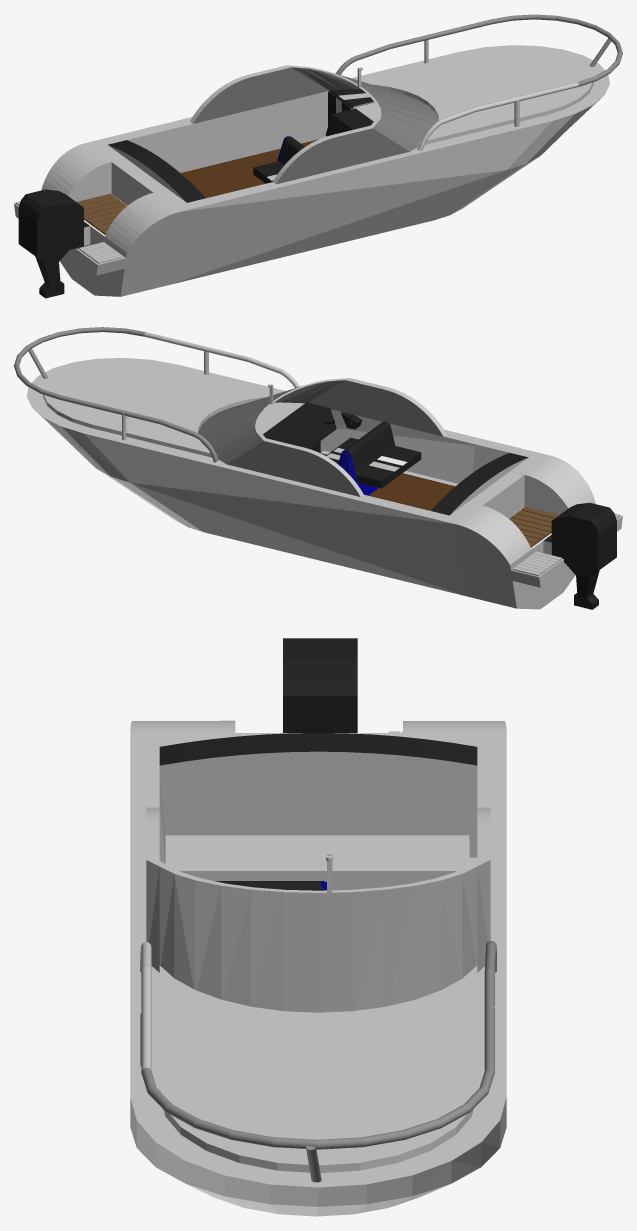
3 renders of one model, top to bottom at view 1: azimuth 30°, elevation 25°; view 2: azimuth 150°, elevation 25°; view 3: azimuth 270°, elevation 25°, orthographic. The views are drawn at different scales.
Visible parts, largest first — view 1: node_398c1869_4de9_42c3_acb5_d54d2fb5d9c2_mesh0, node_ca6d05bd_58bb_4cbd_8bf5_4d009f5f1042_mesh0, node_8cd9ed6f_15ce_4825_aaf6_00906760d0ca_mesh0, node_37c2b4e1_b0ee_464c_ad89_d1457e3d8df5_mesh0, node_798bcff1_ca49_4df4_9d43_2eb9524734d8_mesh0, node_49783029_1f17_4c90_8948_015a88741553_mesh0, node_4237e28a_459e_4023_a213_5a127142ac3e_mesh0, node_5f3b4f05_a2fe_43c5_94bb_bea7e3aed9e0_mesh0, node_126b88bf_c653_46ab_97fb_210226626899_mesh0, node_3b9ed3f4_0f21_40a8_a263_88b4315844ca_mesh0, node_f3c6758b_bc6e_4c5a_97cc_07e82ce6b7cf_mesh0, node_0b12ac3a_5e64_4bae_93e4_d47757035e7e_mesh0 (+20 smaller); view 2: node_8cd9ed6f_15ce_4825_aaf6_00906760d0ca_mesh0, node_7750dd3c_a66f_4206_ba06_14c77fd657e7_mesh0, node_ec9f24e7_42b0_4ba1_8b6e_8480ede5b2c9_mesh0, node_4237e28a_459e_4023_a213_5a127142ac3e_mesh0, node_371b3bdd_e48d_4beb_baf8_1952067fc0ce_mesh0, node_798bcff1_ca49_4df4_9d43_2eb9524734d8_mesh0, node_b8e310ad_8105_4c6e_9dd0_fd498eb5f2b4_mesh0, node_947f8839_b7e8_46d5_996b_66a4e2d4d35b_mesh0, node_987b691d_bffb_45d5_a6c2_ed9c18586fcb_mesh0, node_25a619ab_30ad_40a3_b788_3765fe076688_mesh0, node_bd25b6de_b7b1_454b_b3bb_e1e1a56bbeab_mesh0, node_95535d63_3386_421c_bdb1_7b007b35e281_mesh0 (+21 smaller); view 3: node_8cd9ed6f_15ce_4825_aaf6_00906760d0ca_mesh0, node_4237e28a_459e_4023_a213_5a127142ac3e_mesh0, node_798bcff1_ca49_4df4_9d43_2eb9524734d8_mesh0, node_74095a97_23ba_4cbd_9ad6_764226ce98ee_mesh0, node_4649625c_4bf1_487c_a516_4077e43f57ea_mesh0, node_e78eec7e_0361_431d_8ec7_ffaeaa4e28d8_mesh0, node_074c4d62_7e46_4e52_be43_08f075ad8aab_mesh0, node_20eaa3ca_a668_4b6e_8f25_3866f78d2cf8_mesh0, node_4ec61fd9_aa65_4891_8d94_f22ea34be244_mesh0, node_2ae4cb64_9174_401a_8bcb_c28c02a22c62_mesh0, node_d394d028_31f1_482c_990a_041b60803447_mesh0, node_a94ebebd_9b65_49ed_a119_9640a5411d86_mesh0 (+32 smaller).
Part boxes in pixels (x1=…): node_398c1869_4de9_42c3_acb5_d54d2fb5d9c2_mesh0: x1=181, y1=121, x2=552, y2=211; node_ca6d05bd_58bb_4cbd_8bf5_4d009f5f1042_mesh0: x1=193, y1=91, x2=329, y2=169; node_8cd9ed6f_15ce_4825_aaf6_00906760d0ca_mesh0: x1=86, y1=45, x2=609, y2=211; node_37c2b4e1_b0ee_464c_ad89_d1457e3d8df5_mesh0: x1=172, y1=170, x2=504, y2=262; node_798bcff1_ca49_4df4_9d43_2eb9524734d8_mesh0: x1=361, y1=47, x2=570, y2=95; node_49783029_1f17_4c90_8948_015a88741553_mesh0: x1=171, y1=170, x2=505, y2=284; node_4237e28a_459e_4023_a213_5a127142ac3e_mesh0: x1=419, y1=71, x2=592, y2=142; node_5f3b4f05_a2fe_43c5_94bb_bea7e3aed9e0_mesh0: x1=169, y1=170, x2=504, y2=284; node_126b88bf_c653_46ab_97fb_210226626899_mesh0: x1=176, y1=182, x2=413, y2=240; node_3b9ed3f4_0f21_40a8_a263_88b4315844ca_mesh0: x1=193, y1=67, x2=328, y2=123; node_f3c6758b_bc6e_4c5a_97cc_07e82ce6b7cf_mesh0: x1=276, y1=128, x2=409, y2=184; node_0b12ac3a_5e64_4bae_93e4_d47757035e7e_mesh0: x1=96, y1=241, x2=175, y2=296; node_8cd9ed6f_15ce_4825_aaf6_00906760d0ca_mesh0: x1=26, y1=358, x2=550, y2=524; node_7750dd3c_a66f_4206_ba06_14c77fd657e7_mesh0: x1=131, y1=483, x2=464, y2=574; node_ec9f24e7_42b0_4ba1_8b6e_8480ede5b2c9_mesh0: x1=84, y1=433, x2=454, y2=524; node_4237e28a_459e_4023_a213_5a127142ac3e_mesh0: x1=65, y1=360, x2=279, y2=408; node_371b3bdd_e48d_4beb_baf8_1952067fc0ce_mesh0: x1=131, y1=483, x2=464, y2=595; node_798bcff1_ca49_4df4_9d43_2eb9524734d8_mesh0: x1=44, y1=384, x2=209, y2=452; node_b8e310ad_8105_4c6e_9dd0_fd498eb5f2b4_mesh0: x1=223, y1=494, x2=460, y2=552; node_947f8839_b7e8_46d5_996b_66a4e2d4d35b_mesh0: x1=457, y1=524, x2=540, y2=608; node_987b691d_bffb_45d5_a6c2_ed9c18586fcb_mesh0: x1=309, y1=380, x2=443, y2=436; node_25a619ab_30ad_40a3_b788_3765fe076688_mesh0: x1=227, y1=441, x2=360, y2=496; node_bd25b6de_b7b1_454b_b3bb_e1e1a56bbeab_mesh0: x1=180, y1=499, x2=467, y2=596; node_95535d63_3386_421c_bdb1_7b007b35e281_mesh0: x1=552, y1=516, x2=598, y2=570; node_8cd9ed6f_15ce_4825_aaf6_00906760d0ca_mesh0: x1=130, y1=732, x2=506, y2=1187; node_4237e28a_459e_4023_a213_5a127142ac3e_mesh0: x1=159, y1=965, x2=283, y2=1162; node_798bcff1_ca49_4df4_9d43_2eb9524734d8_mesh0: x1=353, y1=965, x2=477, y2=1162; node_74095a97_23ba_4cbd_9ad6_764226ce98ee_mesh0: x1=342, y1=752, x2=477, y2=835; node_4649625c_4bf1_487c_a516_4077e43f57ea_mesh0: x1=159, y1=752, x2=291, y2=835; node_e78eec7e_0361_431d_8ec7_ffaeaa4e28d8_mesh0: x1=342, y1=835, x2=469, y2=870; node_074c4d62_7e46_4e52_be43_08f075ad8aab_mesh0: x1=165, y1=835, x2=291, y2=870; node_20eaa3ca_a668_4b6e_8f25_3866f78d2cf8_mesh0: x1=325, y1=1011, x2=359, y2=1164; node_4ec61fd9_aa65_4891_8d94_f22ea34be244_mesh0: x1=277, y1=1011, x2=311, y2=1164; node_2ae4cb64_9174_401a_8bcb_c28c02a22c62_mesh0: x1=180, y1=871, x2=456, y2=890; node_d394d028_31f1_482c_990a_041b60803447_mesh0: x1=283, y1=696, x2=357, y2=732; node_a94ebebd_9b65_49ed_a119_9640a5411d86_mesh0: x1=318, y1=892, x2=352, y2=1012.
Size of the model in its own units: 310 by 86.61 by 75.98.
